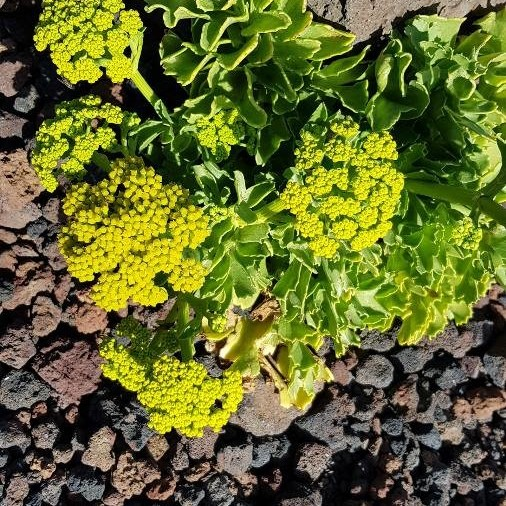obstacle: (47, 33, 448, 437)
